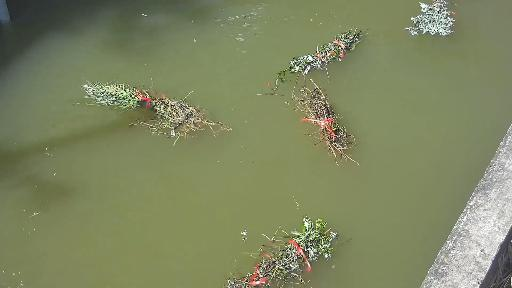twig: (66, 73, 237, 144), (217, 210, 347, 288), (299, 75, 376, 174), (269, 19, 375, 84), (414, 0, 488, 33)
